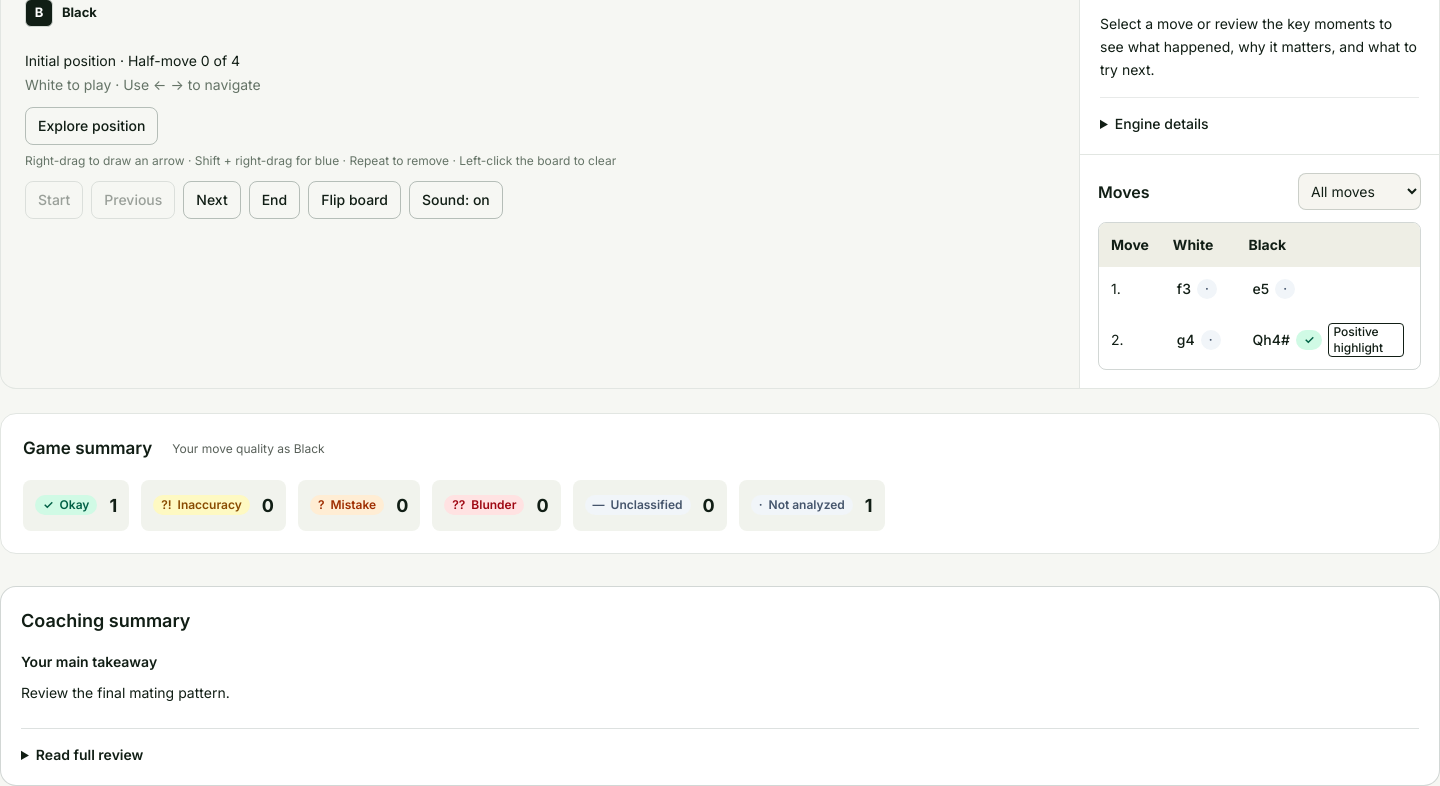
Test: restores a supported positive highlight and navigates to its coaching without replacing engine quality
The image size is (1440, 786).
(page scrolled)
Click the heading "Read full review".
click(90, 755)  # box x1=36 y1=746 x2=143 y2=763
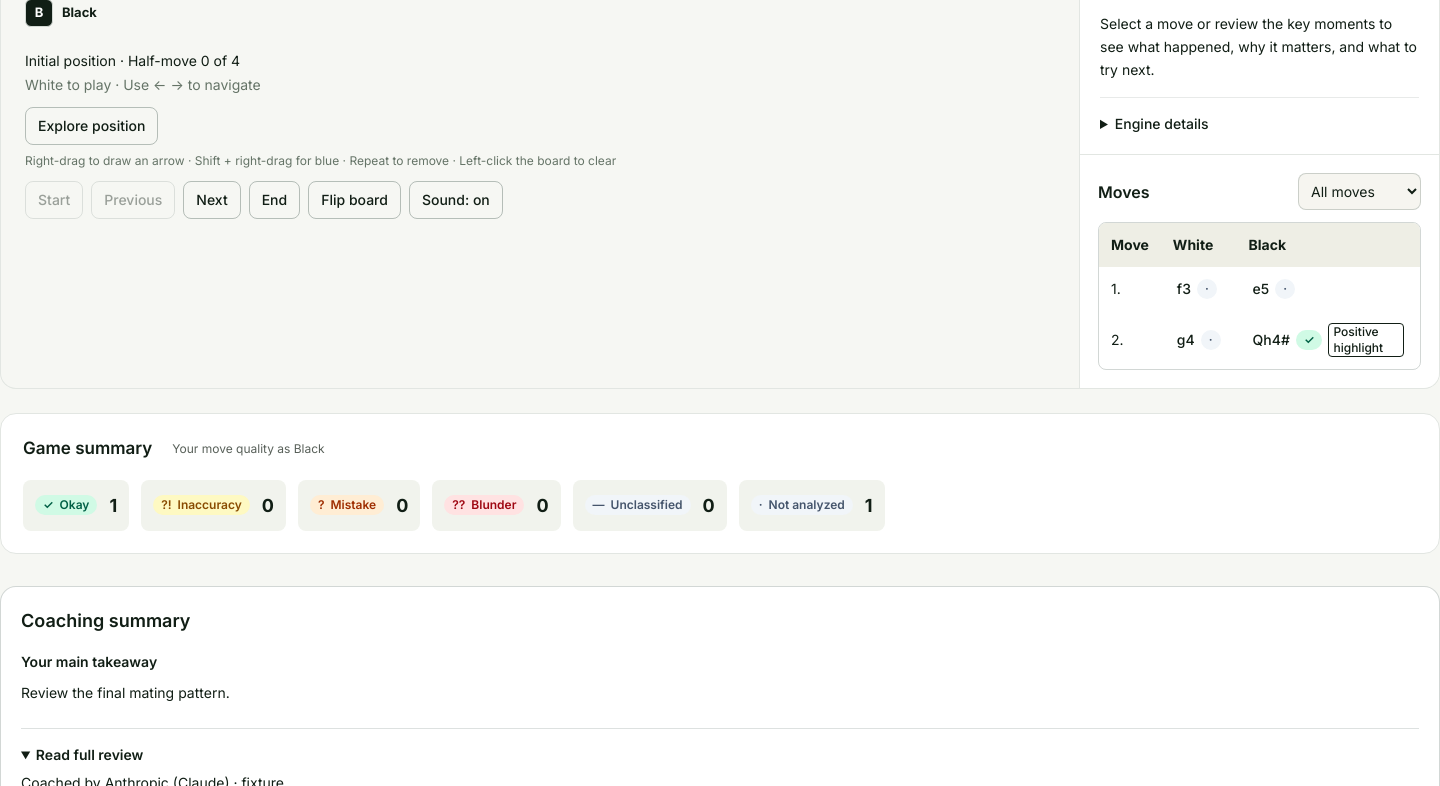
Click the heading "Engine details".
click(1162, 124)  # box x1=1115 y1=115 x2=1208 y2=132
(page scrolled)
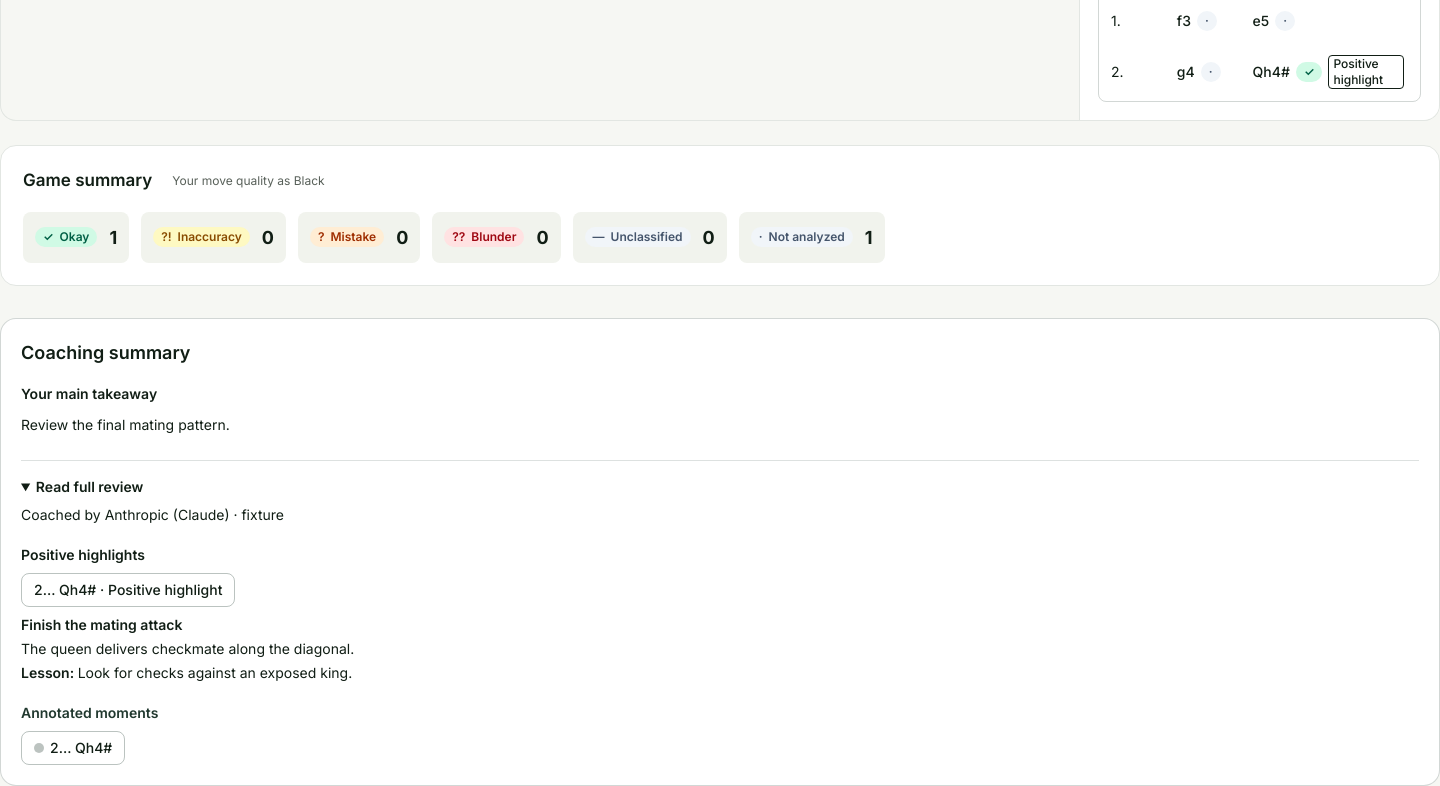
Check: the navigation bar named "Positive highlights" shows "The queen delivers checkmate along the diagonal.", box x1=21 y1=640 x2=354 y2=657
Check: the navigation bar named "Positive highlights" shows "Look for checks against an exposed king.", box x1=78 y1=664 x2=352 y2=681
Click the button "2… Qh4# · Positive highlight".
click(128, 590)  # box x1=21 y1=573 x2=235 y2=607
(page scrolled)
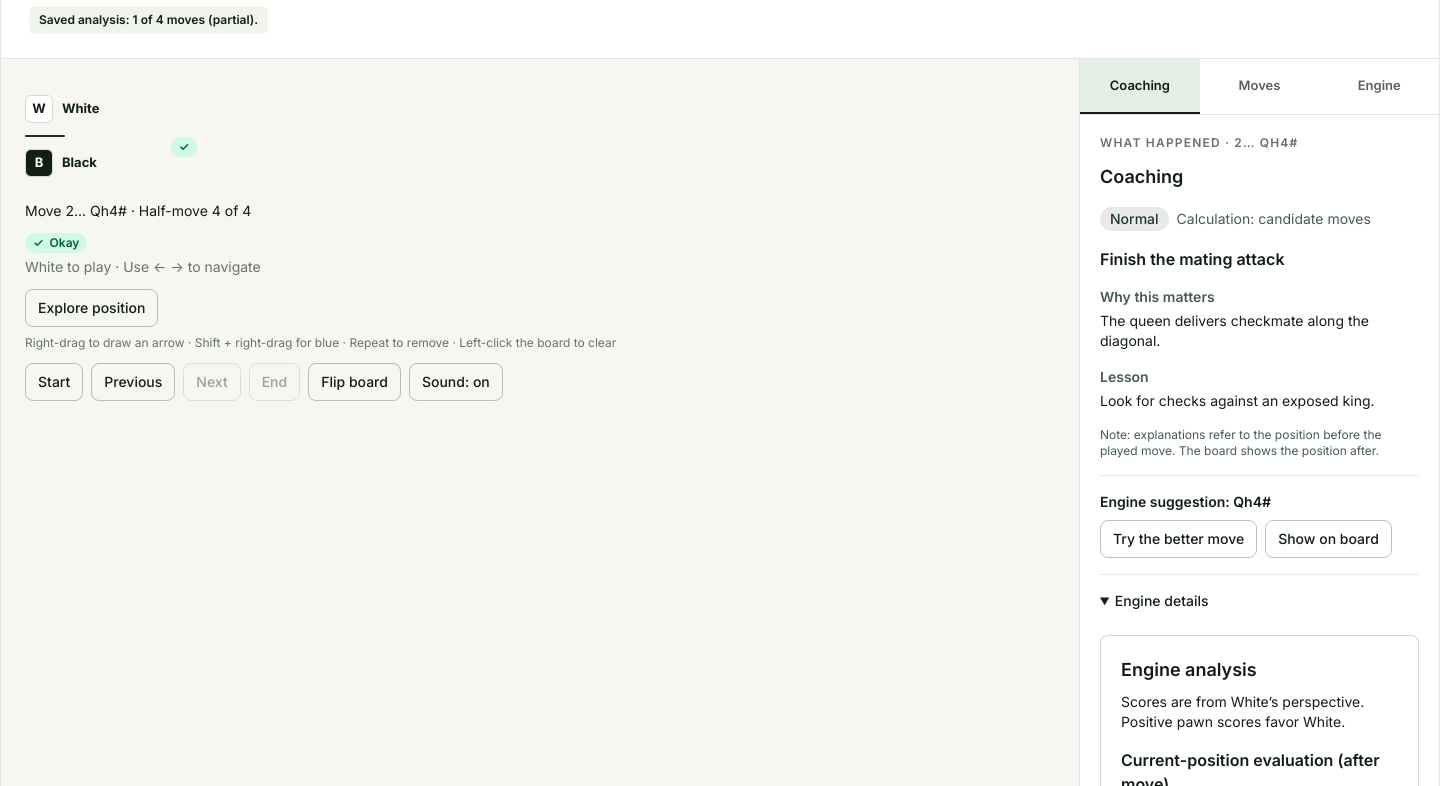
Check: the text "Move 2... Qh4# · Half-move 4 of 4" is shown, box x1=25 y1=202 x2=251 y2=219
Check: the element "Coaching" shows "Finish the mating attack", box x1=1100 y1=249 x2=1284 y2=269
Click the button "Start".
click(54, 382)  # box x1=25 y1=363 x2=83 y2=401
(page scrolled)
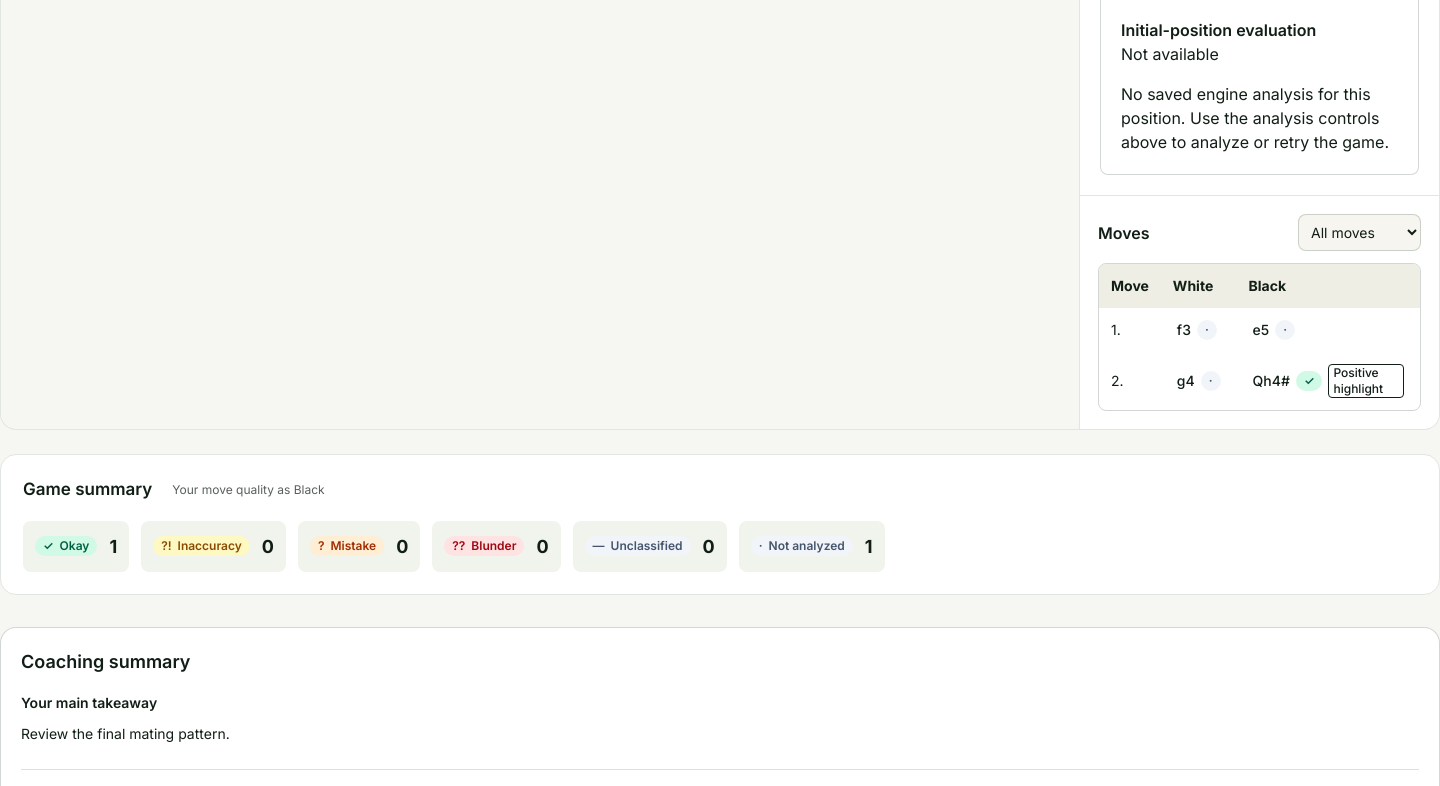
Click the button with aria-label "2. Black Qh4# — normal — Positive highlight".
click(1328, 381)  # box x1=1241 y1=356 x2=1416 y2=406
(page scrolled)
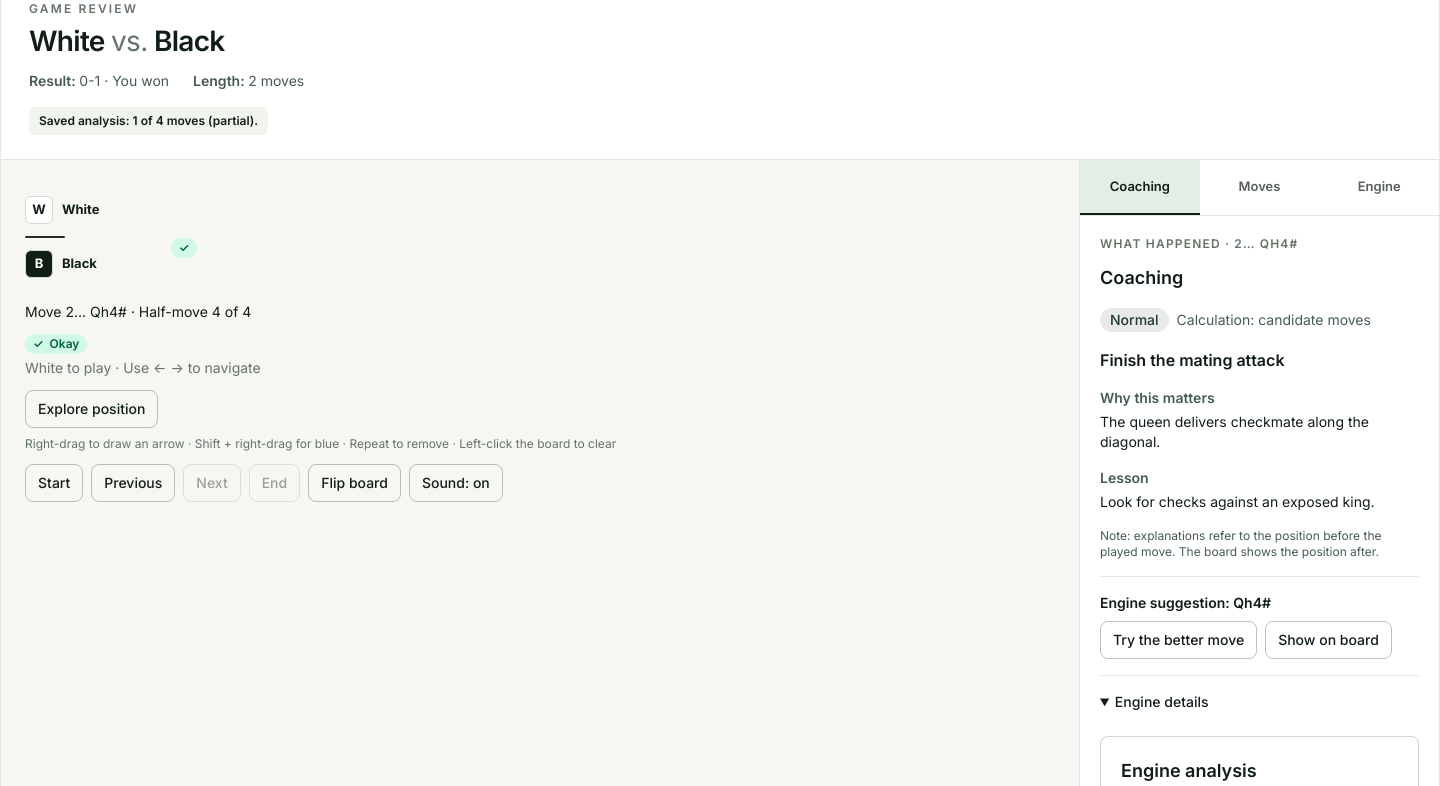
Check: the text "Move 2... Qh4# · Half-move 4 of 4" is shown, box x1=25 y1=303 x2=251 y2=320
